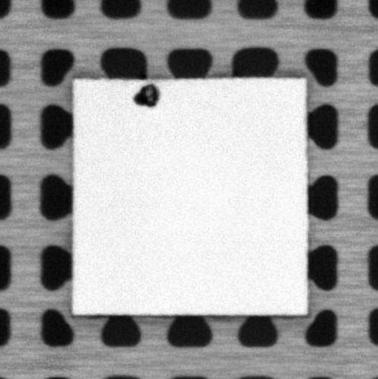DIE_INK: (132, 82, 163, 107)
